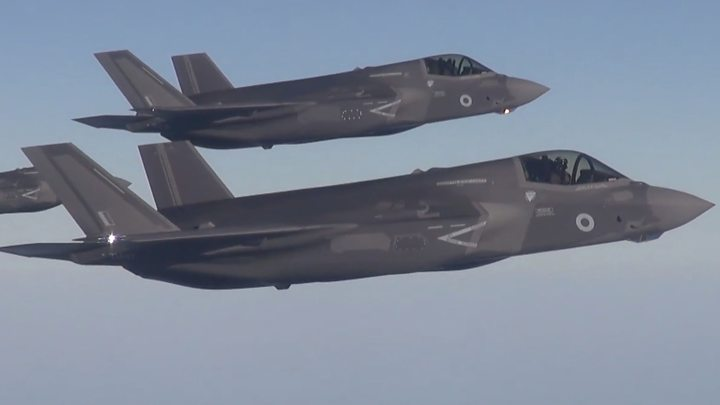F-35 Lightning: (8, 127, 719, 299), (55, 27, 569, 144)
